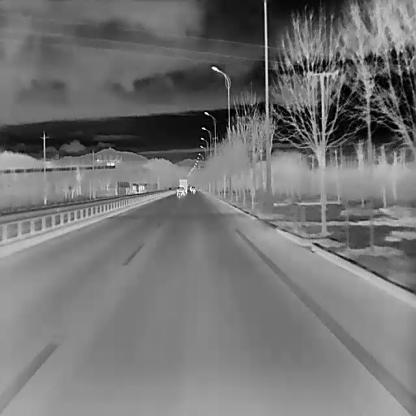car: (176, 185, 186, 197), (191, 185, 196, 193)
truck: (178, 178, 187, 195)
